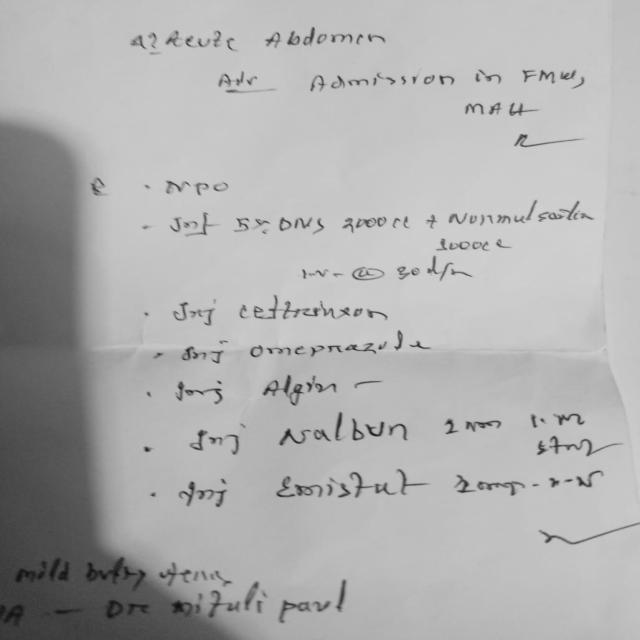medicine: (236, 290, 400, 334), (239, 328, 436, 364), (264, 466, 424, 505), (276, 411, 418, 451), (261, 374, 347, 408)
